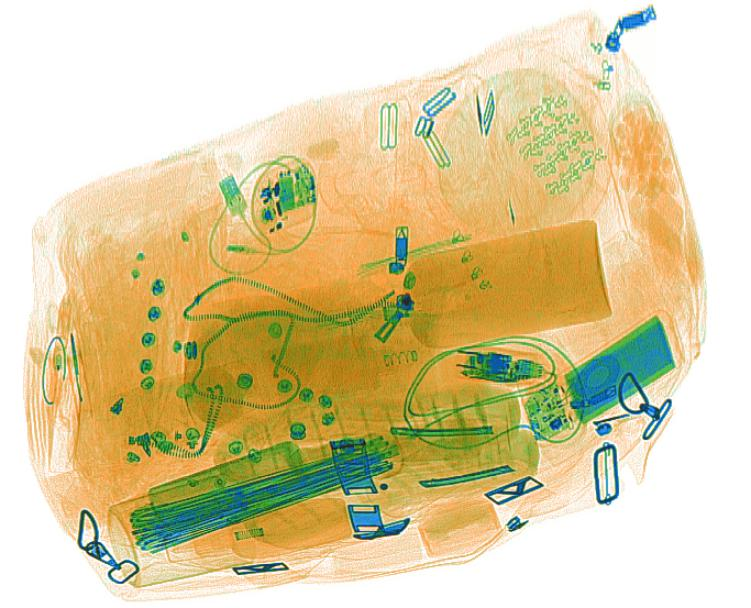plasticBottleWithaNozzle: (348, 218, 612, 359), (130, 332, 446, 438), (163, 495, 357, 567)
